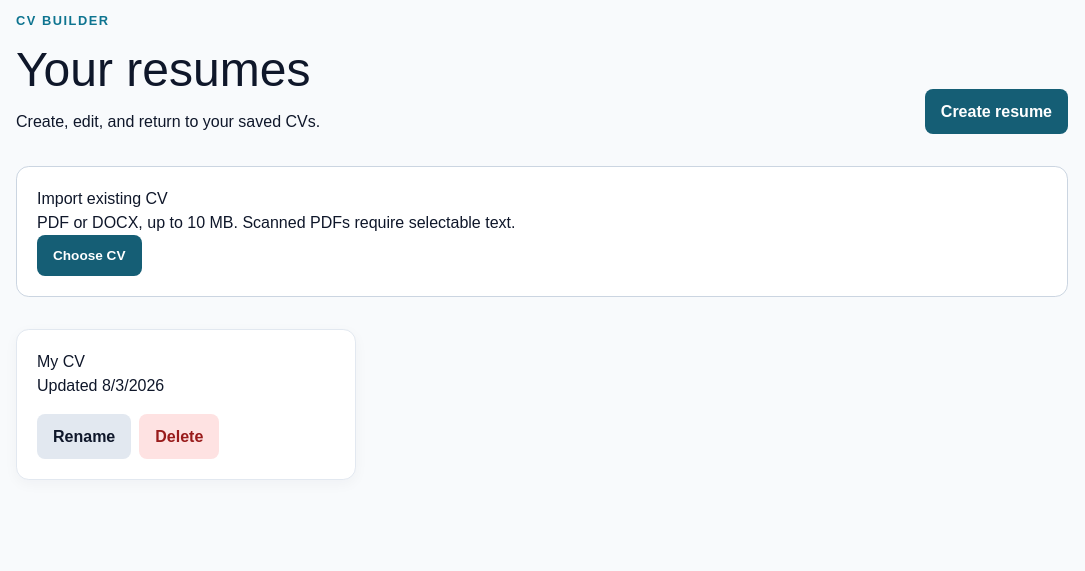
Test case: resume dashboard › renders saved resumes and renames and deletes them
Expected: the heading "My CV" is shown, [37,353,85,370]
Click the button "Rename". click: (84, 437)
box: [37,414,131,459]
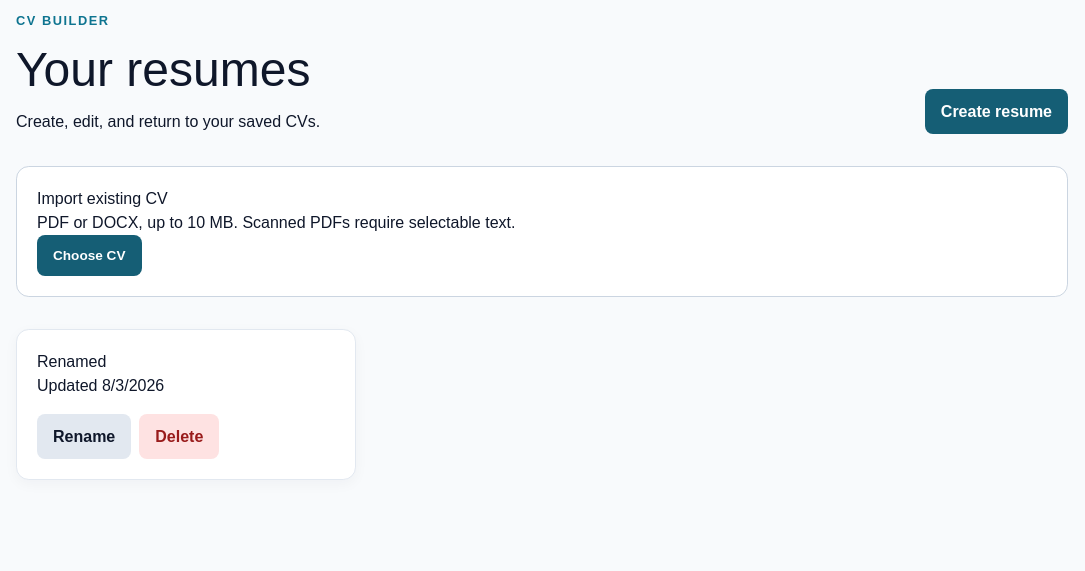
Now the heading "Renamed" is shown, box [37,353,106,370]
Click the button "Delete". click: (179, 437)
box: [139,414,219,459]
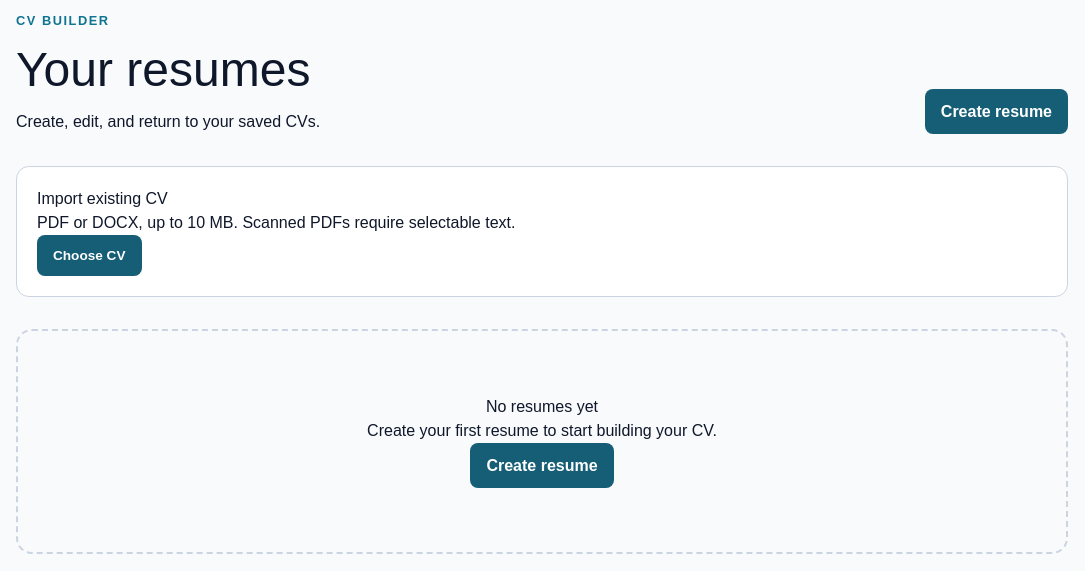
Now the link "Renamed" is gone
